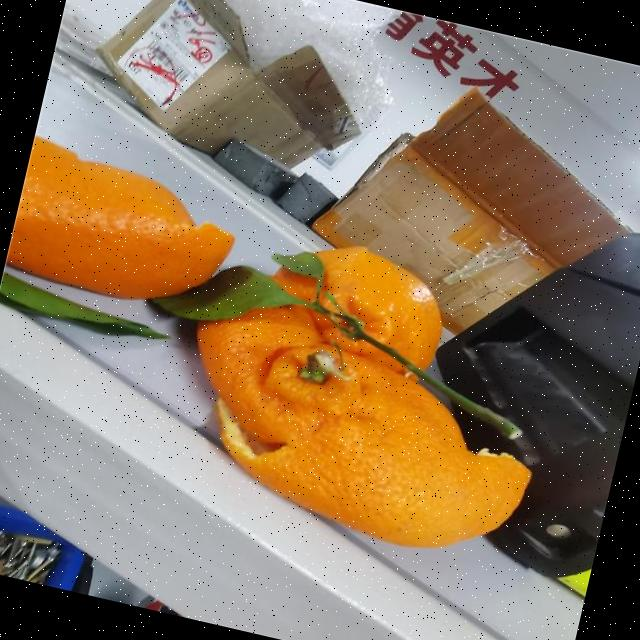orange-peel: (157, 212, 574, 571), (3, 133, 247, 320)
